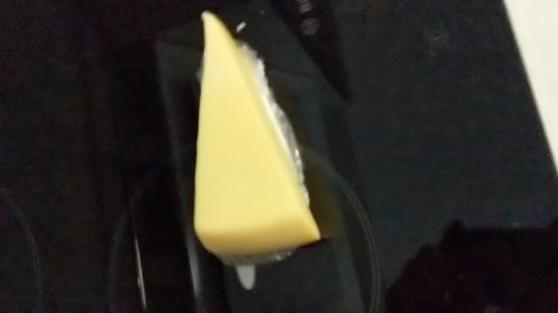cheese: (188, 8, 322, 255)
